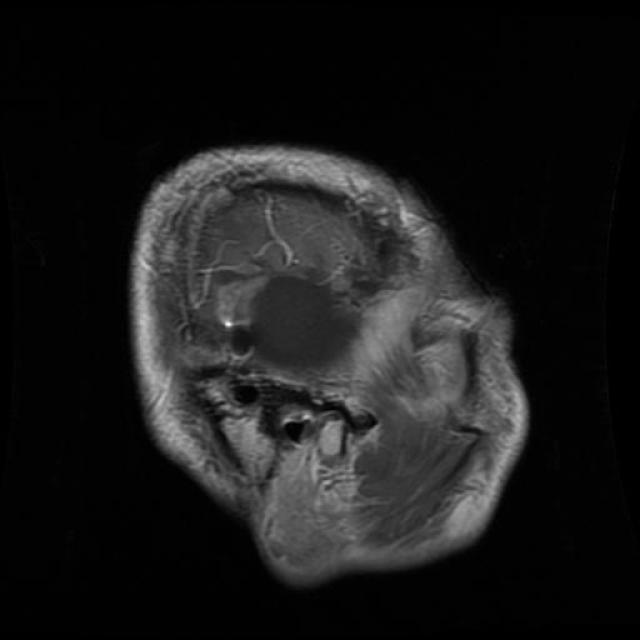glioma: (220, 255, 369, 376)
